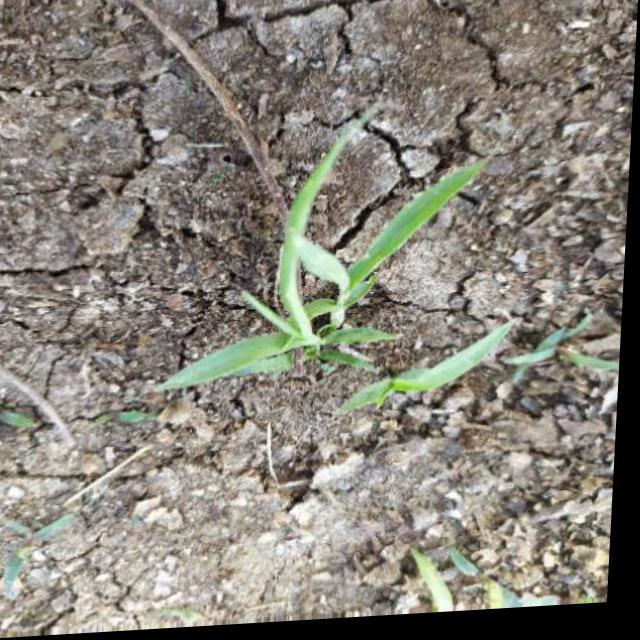weed: (153, 100, 505, 472)
